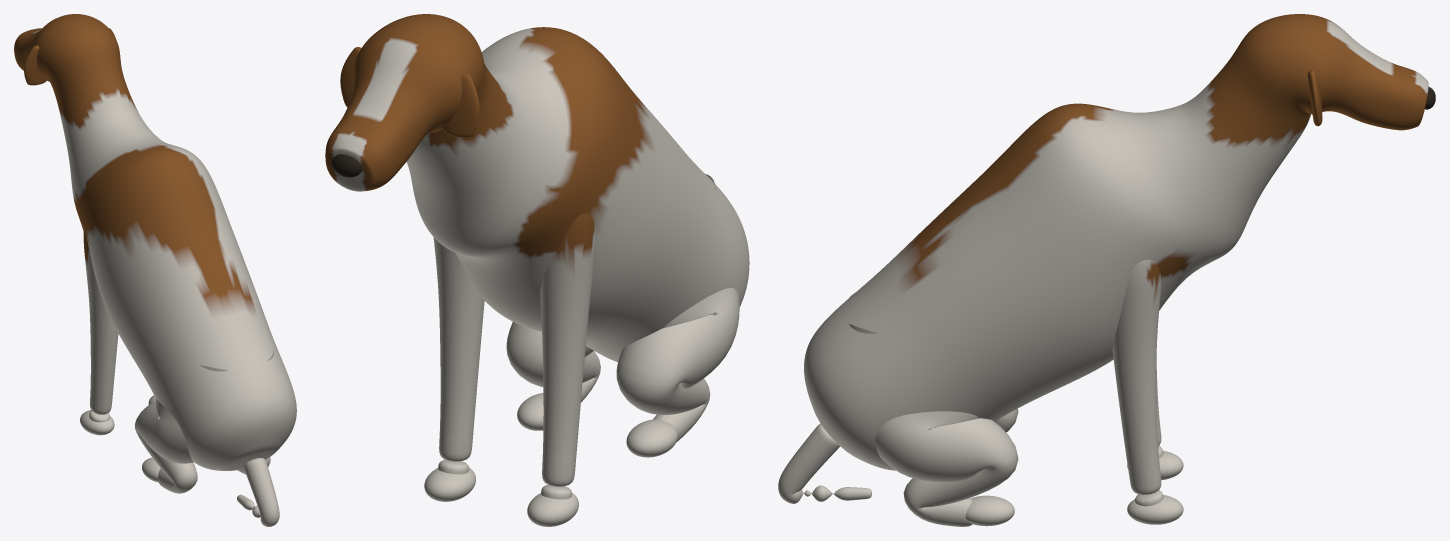
File: dog_small_sitting.gltf
3 views of the same model, side by side, from view 1: azimuth 30°, elevation 25°; view 2: azimuth 150°, elevation 25°; view 3: azimuth 270°, elevation 25° (orthographic). The views are drawn at different scales.
Visible parts, largest first — view 1: dog_small; view 2: dog_small; view 3: dog_small.
Part boxes in pixels (<box>): dog_small: <box>14,14,296,526</box>; dog_small: <box>325,14,749,526</box>; dog_small: <box>778,14,1435,526</box>.
Bounding box in the file's own units: 0.1611 × 0.4491 × 0.5541.
